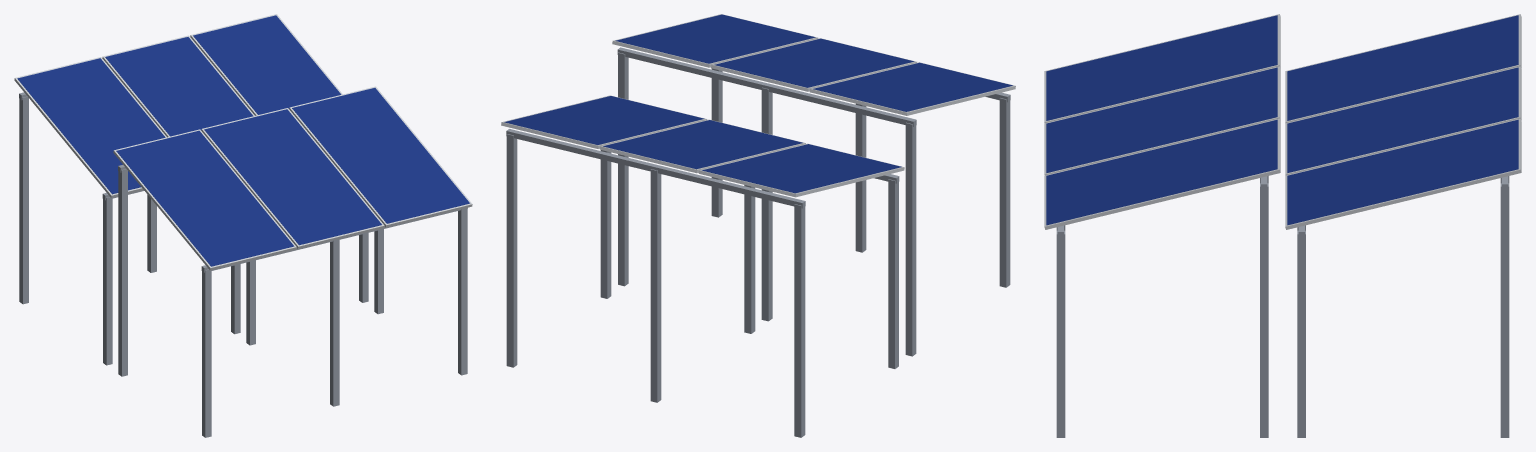
File: structure-2x3-550.glb
3 views of the same model, side by side, from view 1: azimuth 30°, elevation 25°; view 2: azimuth 150°, elevation 25°; view 3: azimuth 270°, elevation 25° (orthographic). The views are drawn at different scales.
Parts seen in each view (by area): view 1: glass (×6), GI_Frame, frame (×6); view 2: glass (×6), GI_Frame, frame (×6); view 3: glass (×6), GI_Frame, frame (×6).
Part boxes in pixels (x1,y1,x2,y2): glass (×6): (17, 15, 469, 266); GI_Frame: (19, 92, 467, 437); frame (×6): (14, 14, 472, 270); glass (×6): (504, 14, 1012, 193); GI_Frame: (506, 47, 1010, 437); frame (×6): (501, 14, 1015, 197); glass (×6): (1046, 15, 1518, 225); GI_Frame: (1056, 176, 1509, 437); frame (×6): (1044, 14, 1521, 229).
Bounding box in the file's own units: 3.46 × 2.77 × 4.46.
